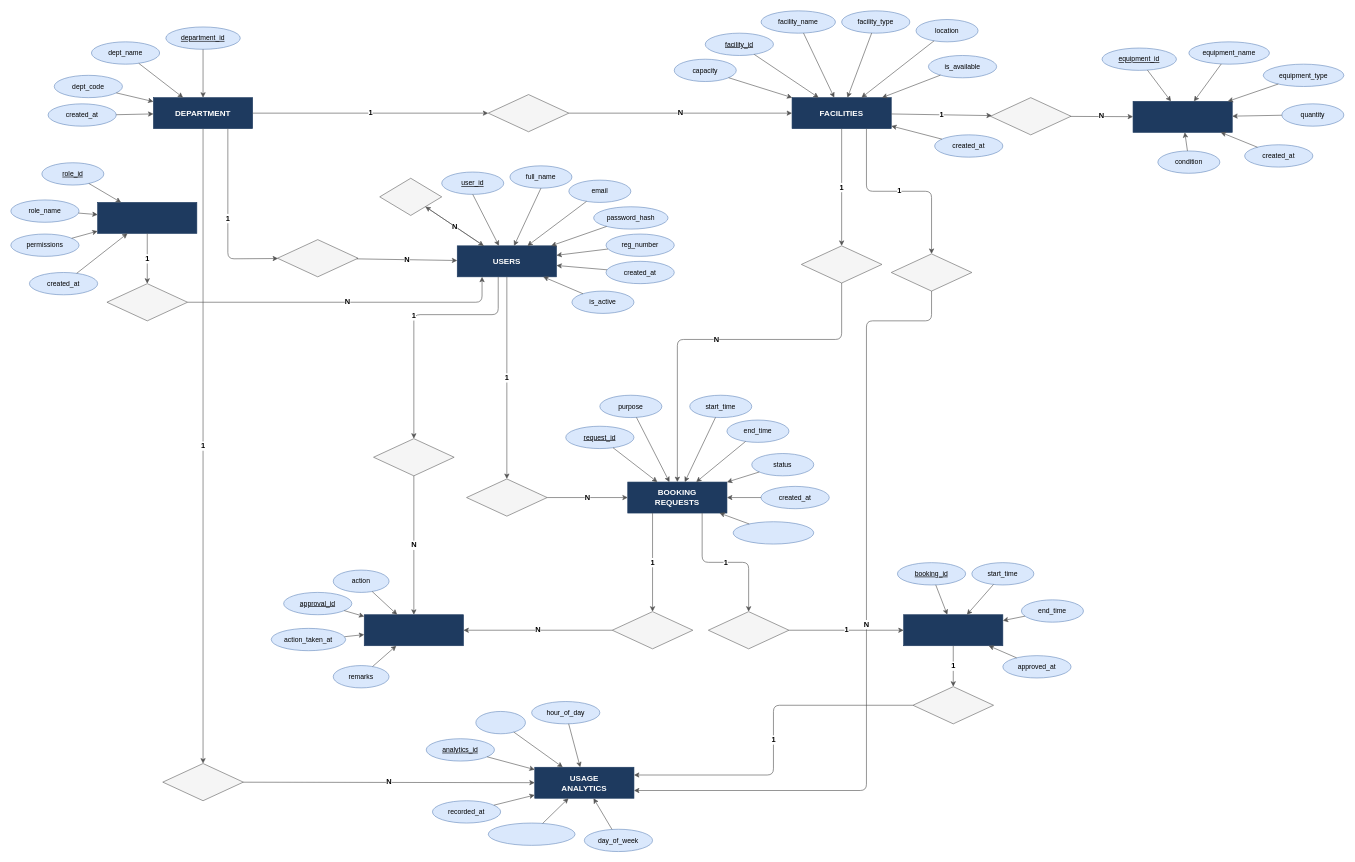
This 1355x862 diagram has some shape labels left out. Each missing label, with the box of its shape:
analyzed in: (891, 253, 972, 291)
APPROVAL RECORDS: (364, 614, 463, 646)
APPROVED BOOKINGS: (903, 614, 1003, 646)
assigned to: (106, 283, 188, 321)
attendees_count: (733, 521, 814, 544)
belongs to: (277, 239, 358, 277)
categorized in: (162, 763, 243, 801)
created by: (379, 178, 442, 215)
date: (475, 711, 525, 734)
duration_minutes: (488, 822, 575, 845)
EQUIPMENT: (1132, 101, 1232, 132)
generates: (708, 611, 789, 649)
has: (990, 97, 1071, 135)
owns: (488, 94, 569, 132)
records: (373, 438, 454, 476)
requested for: (801, 245, 882, 283)
reviewed in: (612, 611, 693, 649)
ROLES: (97, 202, 197, 233)
submits: (466, 478, 547, 516)
tracked in: (912, 686, 994, 724)
